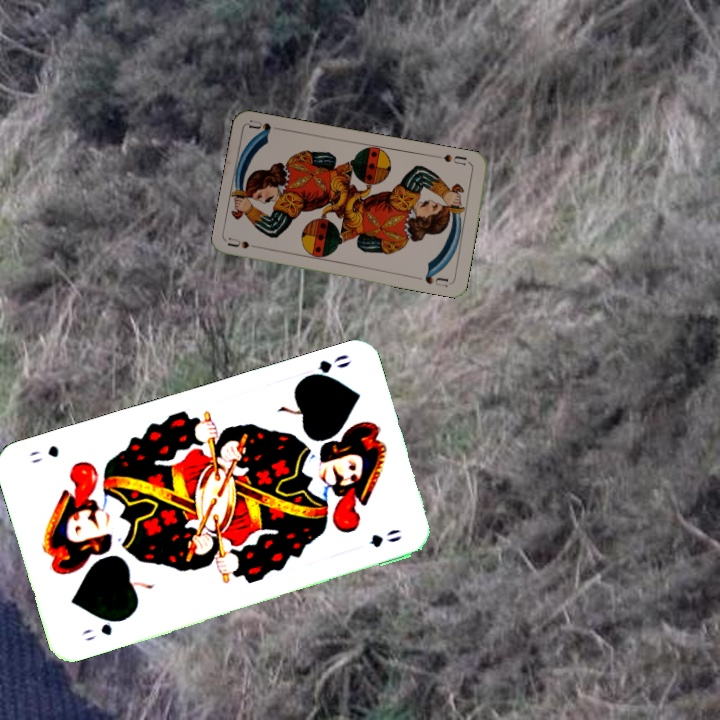GO: (297, 350, 354, 383), (77, 614, 128, 644)
SU: (225, 234, 266, 252), (433, 150, 469, 168)
